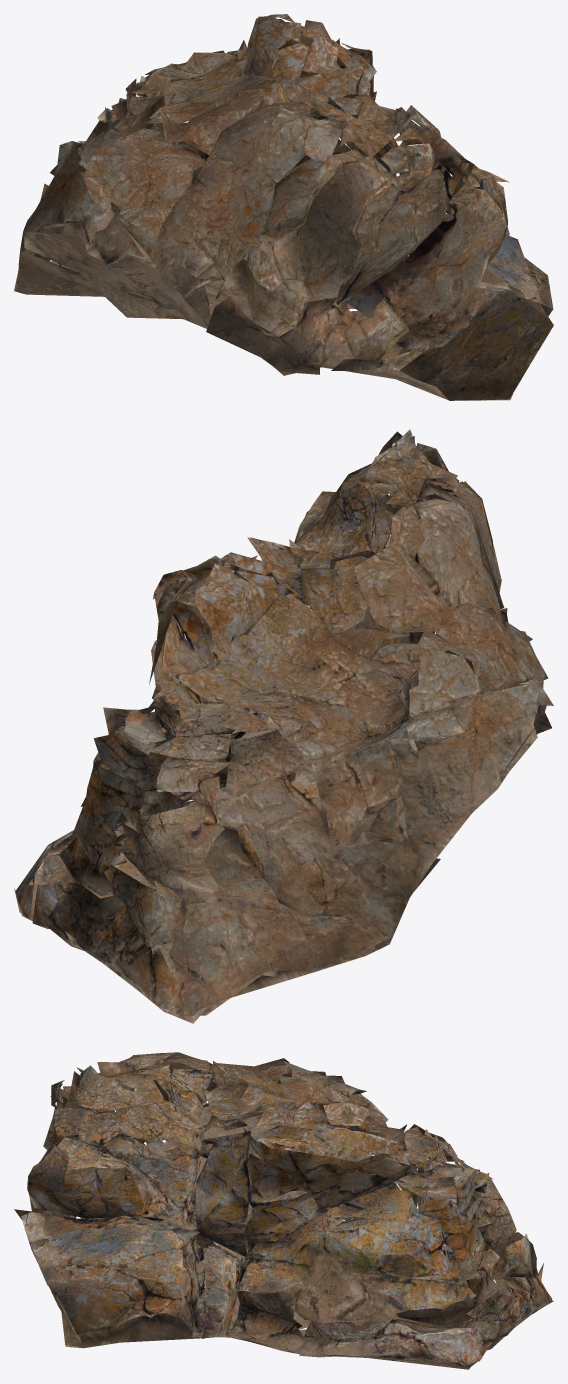
File: boulder_mobile.glb
3 renders of one model, top to bottom at view 1: azimuth 30°, elevation 25°; view 2: azimuth 150°, elevation 25°; view 3: azimuth 270°, elevation 25°, orthographic. The views are drawn at different scales.
Visible parts, largest first — view 1: boulder; view 2: boulder; view 3: boulder.
Boxes of the visible parts, x1,y1,x2,y2 form: boulder: (14, 14, 553, 400); boulder: (14, 429, 553, 1023); boulder: (14, 1052, 553, 1369).
Bounding box in the file's own units: 0.6875 × 0.5606 × 1.01.
1 material, 1 textured.
